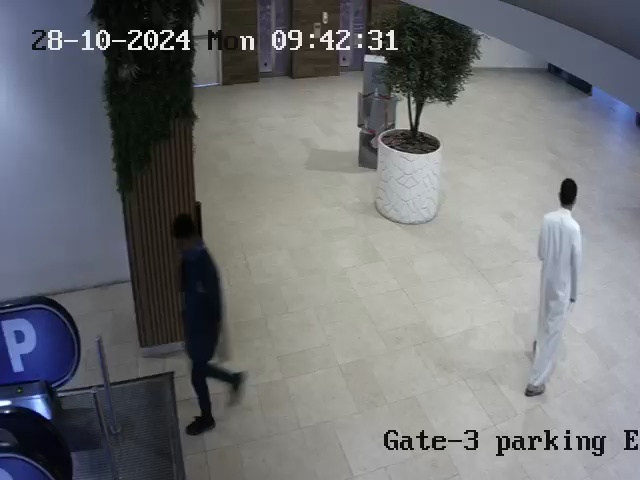male: (171, 213, 248, 436), (524, 178, 583, 397)
